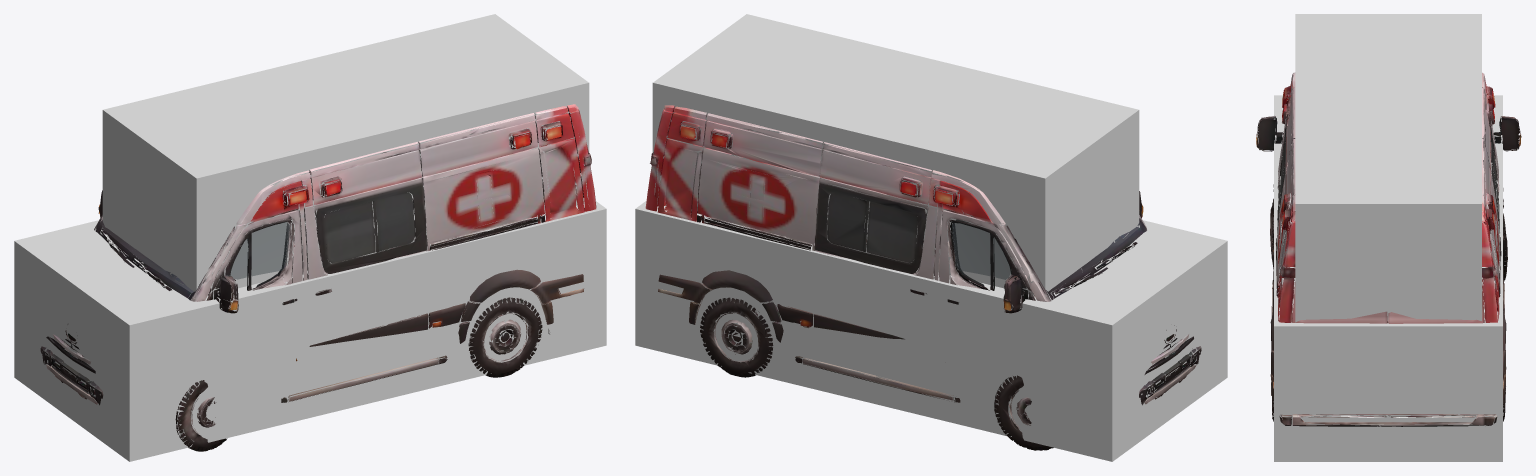
Rendered from ambulancia.glb.
3 views of the same model, side by side, from view 1: azimuth 30°, elevation 25°; view 2: azimuth 150°, elevation 25°; view 3: azimuth 270°, elevation 25° (orthographic).
Parts seen in each view (by area): view 1: Col_ambulancia_1, Col_ambulancia_2, Car_ambulancia; view 2: Col_ambulancia_1, Col_ambulancia_2, Car_ambulancia; view 3: Col_ambulancia_2, Col_ambulancia_1, Car_ambulancia.
Boxes of the visible parts, x1,y1,x2,y2 form: Col_ambulancia_1: (14, 201, 606, 461); Col_ambulancia_2: (102, 14, 589, 295); Car_ambulancia: (40, 104, 596, 451); Col_ambulancia_1: (635, 201, 1227, 461); Col_ambulancia_2: (652, 14, 1139, 296); Car_ambulancia: (645, 105, 1201, 450); Col_ambulancia_2: (1295, 14, 1481, 322); Col_ambulancia_1: (1274, 95, 1502, 461); Car_ambulancia: (1256, 72, 1521, 426).
Size of what is drawn, in the model's own units: 5.11 by 2.68 by 2.44.
Materials: 2 (1 with a texture image).
